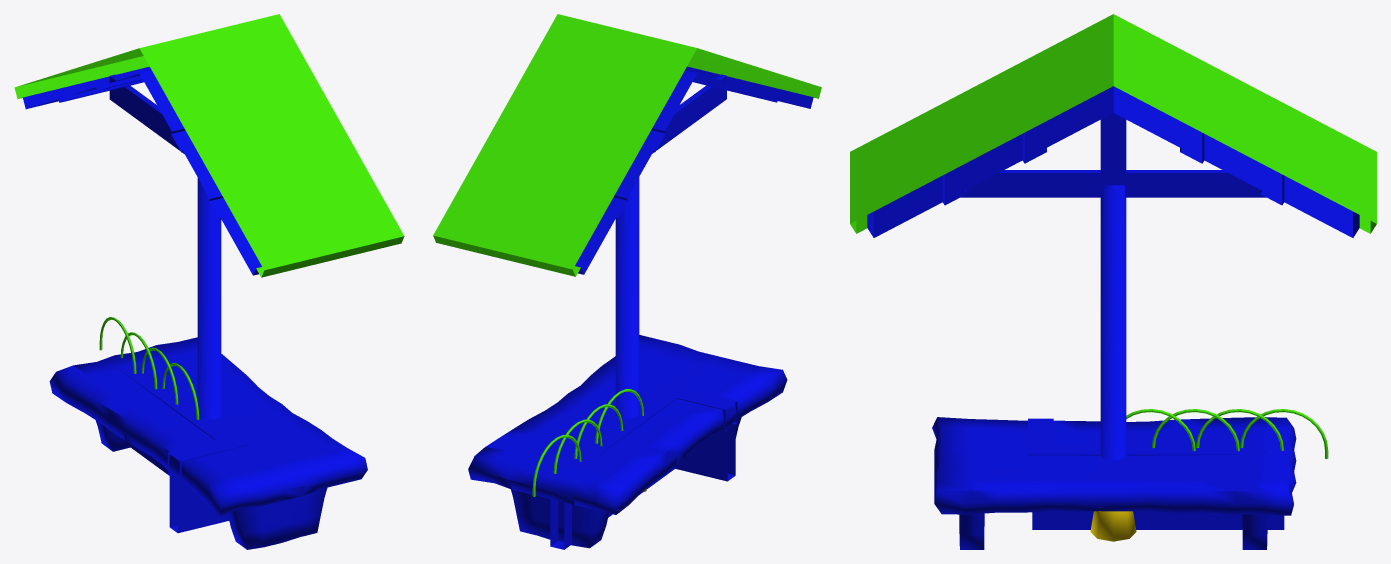
Rendered from campus_extras.fbx.
The picture shows the model from 3 angles, left to right: view 1: azimuth 30°, elevation 25°; view 2: azimuth 150°, elevation 25°; view 3: azimuth 270°, elevation 25°; orthographic projection. The views are drawn at different scales.
Visible parts, largest first — view 1: msh_shadesFill, msh_bench, msh_shadesPillar, msh_miniFenceCorner, msh_miniFence; view 2: msh_shadesFill, msh_bench, msh_shadesPillar, msh_miniFenceCorner, msh_miniFence; view 3: msh_shadesFill, msh_bench, msh_shadesPillar, msh_miniFence, msh_miniFenceCorner.
Part boxes in pixels (box(x1,y1,x2,y2)): msh_shadesFill: box(14, 14, 404, 277); msh_bench: box(49, 337, 367, 549); msh_shadesPillar: box(109, 74, 221, 419); msh_miniFenceCorner: box(167, 417, 249, 533); msh_miniFence: box(99, 317, 199, 474); msh_shadesFill: box(433, 14, 821, 276); msh_bench: box(468, 335, 787, 548); msh_shadesPillar: box(615, 74, 726, 492); msh_miniFenceCorner: box(638, 384, 737, 488); msh_miniFence: box(532, 389, 648, 549); msh_shadesFill: box(850, 14, 1376, 237); msh_bench: box(932, 417, 1296, 549); msh_shadesPillar: box(960, 113, 1266, 541); msh_miniFence: box(1126, 409, 1328, 529); msh_miniFenceCorner: box(1028, 418, 1100, 529).
Bounding box in the file's own units: 212 × 625 × 618.
